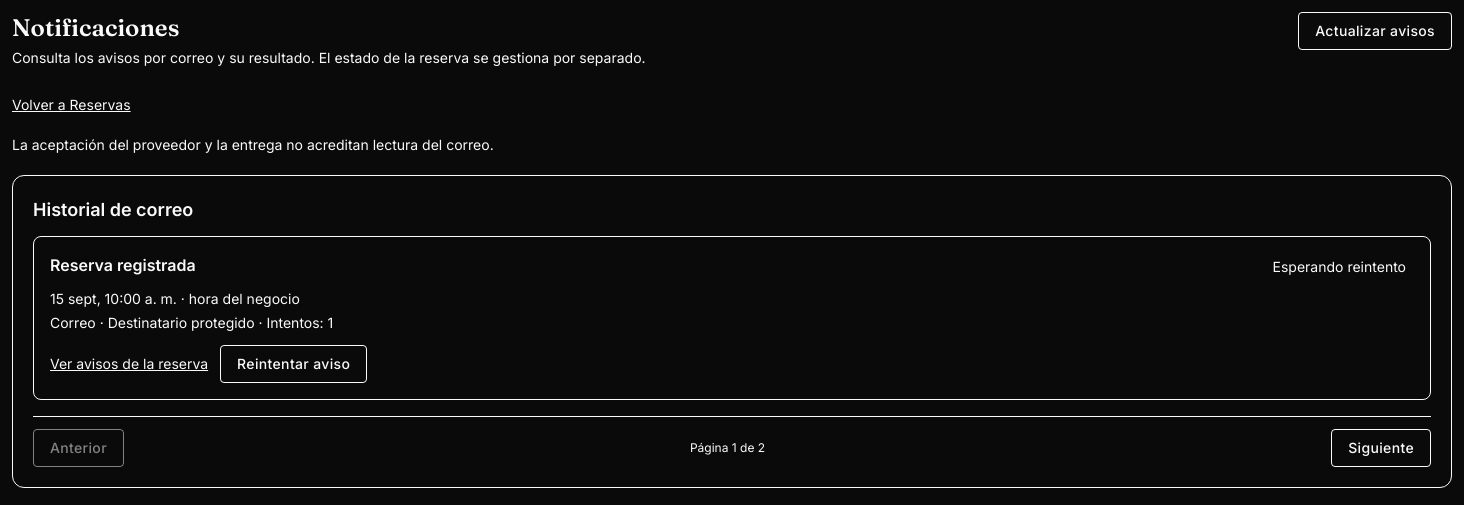
Test: paginates on the server and recovers from a history error without showing cached rows
The width and height of the screenshot is (1464, 505).
Check: the heading "Reserva registrada" is shown, box [50,253,196,277]
Click the button "Siguiente" at (1381, 448), box [1331,429,1431,467]
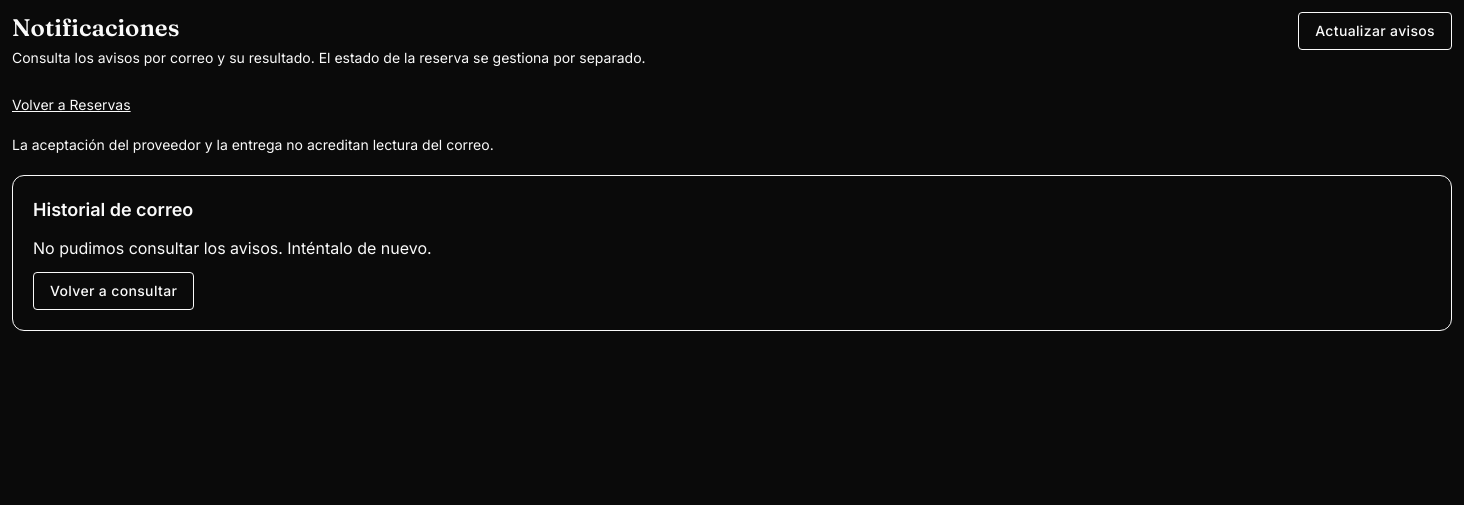
Check: the message shows "No pudimos consultar", box [33,238,432,258]
Check: the heading "Reserva registrada" is gone
